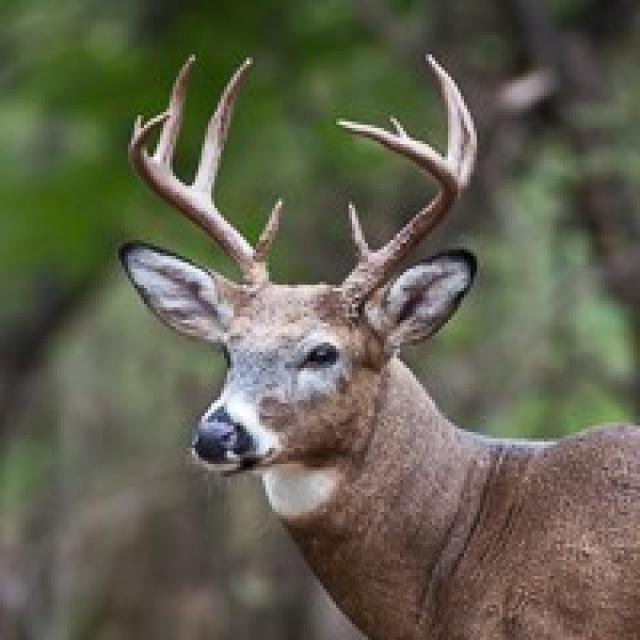E1: (389, 114, 411, 138)
L-F: (332, 117, 462, 322)
L-G1: (348, 200, 372, 266)
L-G3: (424, 52, 479, 190)
R-F: (128, 112, 270, 298)
R-G1: (253, 196, 285, 265)
R-G2: (191, 55, 256, 200)
R-G3: (154, 52, 197, 172)
